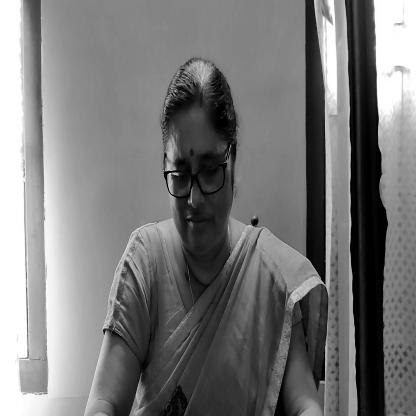Normal: (165, 61, 236, 256)
